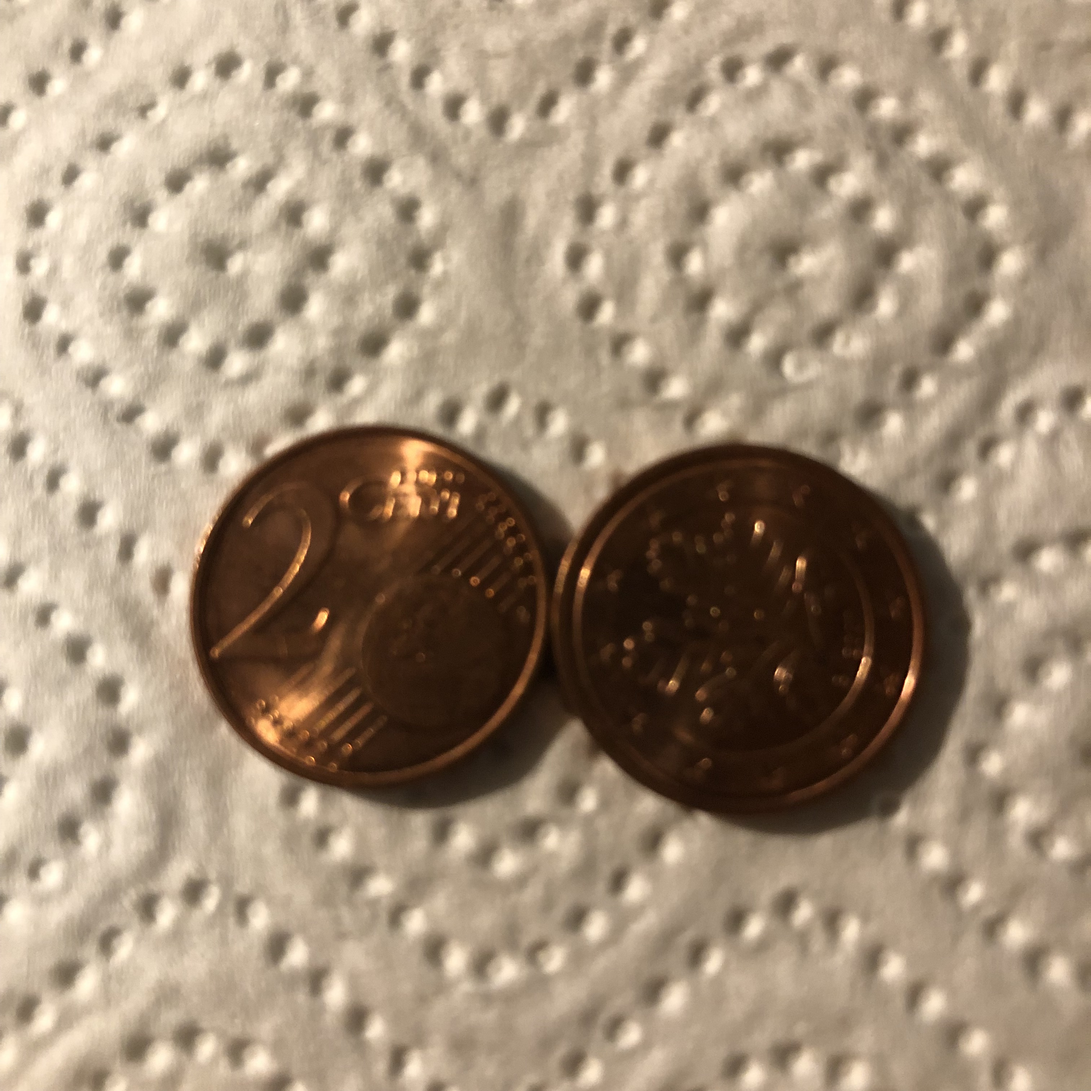2 cent: (548, 446, 924, 811), (192, 423, 545, 788)
